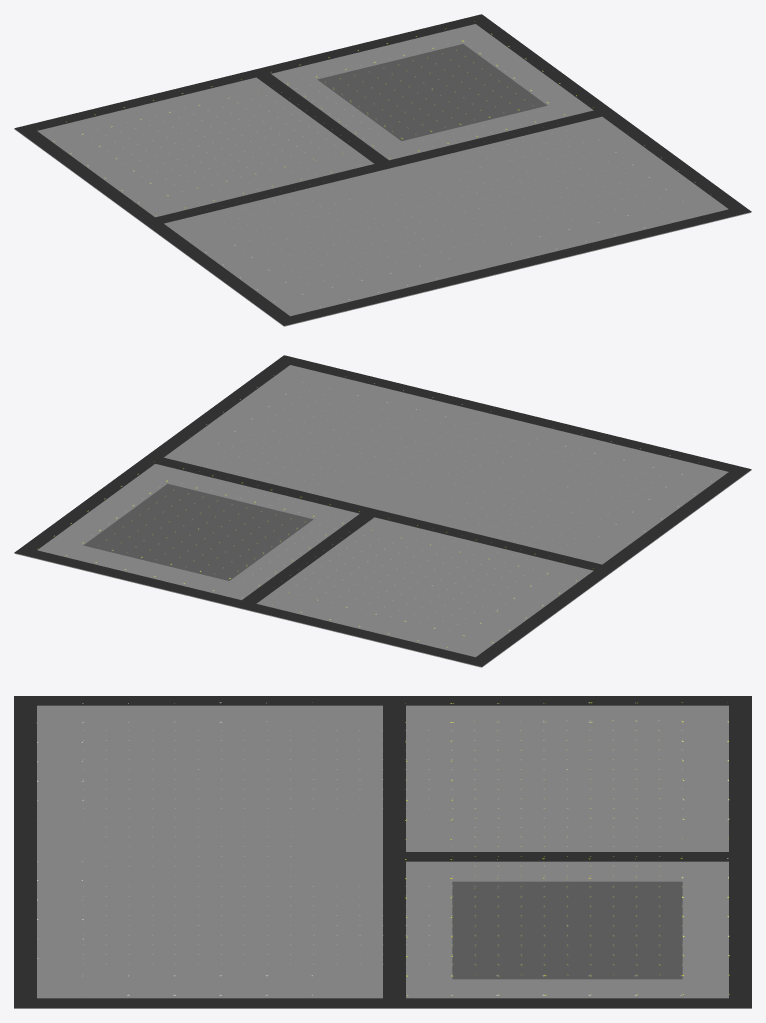
Rendered from 2x2Parcel.gltf.
The picture shows the model from 3 angles, top to bottom: view 1: azimuth 30°, elevation 25°; view 2: azimuth 150°, elevation 25°; view 3: azimuth 270°, elevation 25°; orthographic projection. The views are drawn at different scales.
Visible parts, largest first — view 1: 32x16Floor.005, 32x16Floor.001, 16mFloor, 1mFloorBg, 32x16Floor.004, roadEast.007, roadWest.003, roadEast.003, roadNorth.007, roadNorth.003, roadSouth.007, roadEast (+6 smaller); view 2: 32x16Floor.005, 32x16Floor.001, 32x16Floor.004, 1mFloorBg, 16mFloor, roadEast.007, roadWest.003, roadEast.003, roadSouth.007, roadNorth, roadNorth.007, roadWest (+5 smaller); view 3: 32x16Floor.005, 32x16Floor.001, 32x16Floor.004, 1mFloorBg, 16mFloor, roadEast.007, roadEast.003, roadWest.003, roadWest.006, roadNorth.003, roadSouth.007, roadNorth.007 (+7 smaller).
Boxes of the visible parts, left/top/right/bottom form: 32x16Floor.005: left=149, top=117, right=751, bottom=326; 32x16Floor.001: left=14, top=25, right=590, bottom=227; 16mFloor: left=256, top=24, right=602, bottom=170; 1mFloorBg: left=317, top=44, right=547, bottom=141; 32x16Floor.004: left=38, top=26, right=574, bottom=208; roadEast.007: left=276, top=207, right=750, bottom=324; roadWest.003: left=152, top=109, right=613, bottom=225; roadEast.003: left=20, top=16, right=485, bottom=130; roadNorth.007: left=602, top=113, right=751, bottom=215; roadNorth.003: left=15, top=125, right=163, bottom=226; roadSouth.007: left=149, top=223, right=298, bottom=325; roadEast: left=468, top=14, right=613, bottom=116; 32x16Floor.005: left=164, top=365, right=751, bottom=568; 32x16Floor.001: left=14, top=464, right=612, bottom=667; 32x16Floor.004: left=14, top=464, right=616, bottom=665; 1mFloorBg: left=83, top=483, right=313, bottom=580; 16mFloor: left=19, top=464, right=335, bottom=610; roadEast.007: left=276, top=355, right=746, bottom=475; roadWest.003: left=142, top=454, right=616, bottom=572; roadEast.003: left=27, top=548, right=489, bottom=666; roadSouth.007: left=602, top=466, right=751, bottom=567; roadNorth: left=23, top=547, right=255, bottom=609; roadNorth.007: left=149, top=356, right=294, bottom=457; roadWest: left=235, top=507, right=378, bottom=605; 32x16Floor.005: left=14, top=705, right=382, bottom=1008; 32x16Floor.001: left=383, top=705, right=750, bottom=1008; 32x16Floor.004: left=383, top=705, right=728, bottom=1008; 1mFloorBg: left=452, top=881, right=682, bottom=979; 16mFloor: left=384, top=861, right=751, bottom=1008; roadEast.007: left=14, top=696, right=36, bottom=1007; roadEast.003: left=729, top=696, right=751, bottom=1005; roadWest.003: left=383, top=696, right=405, bottom=1007; roadWest.006: left=729, top=696, right=751, bottom=996; roadNorth.003: left=383, top=696, right=751, bottom=705; roadSouth.007: left=14, top=696, right=382, bottom=705; roadNorth.007: left=27, top=998, right=382, bottom=1007.
Size of the model in its own units: 32 by 0.3 by 32.
6 materials, 6 textured.
